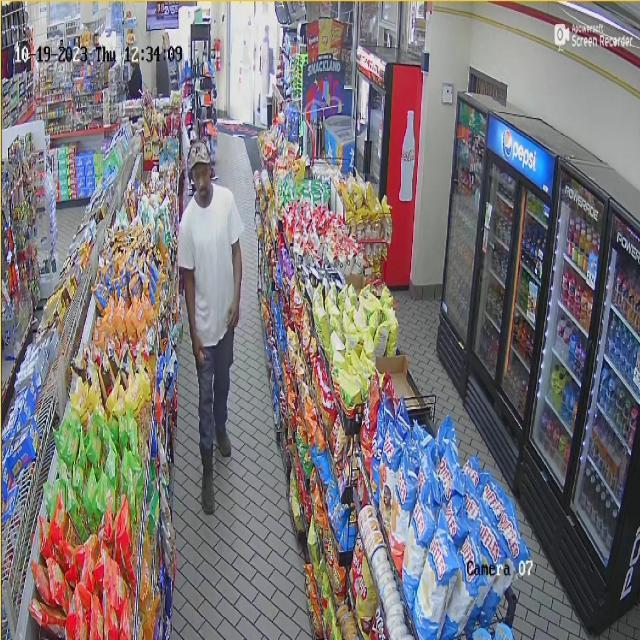normal: (174, 134, 251, 523)
